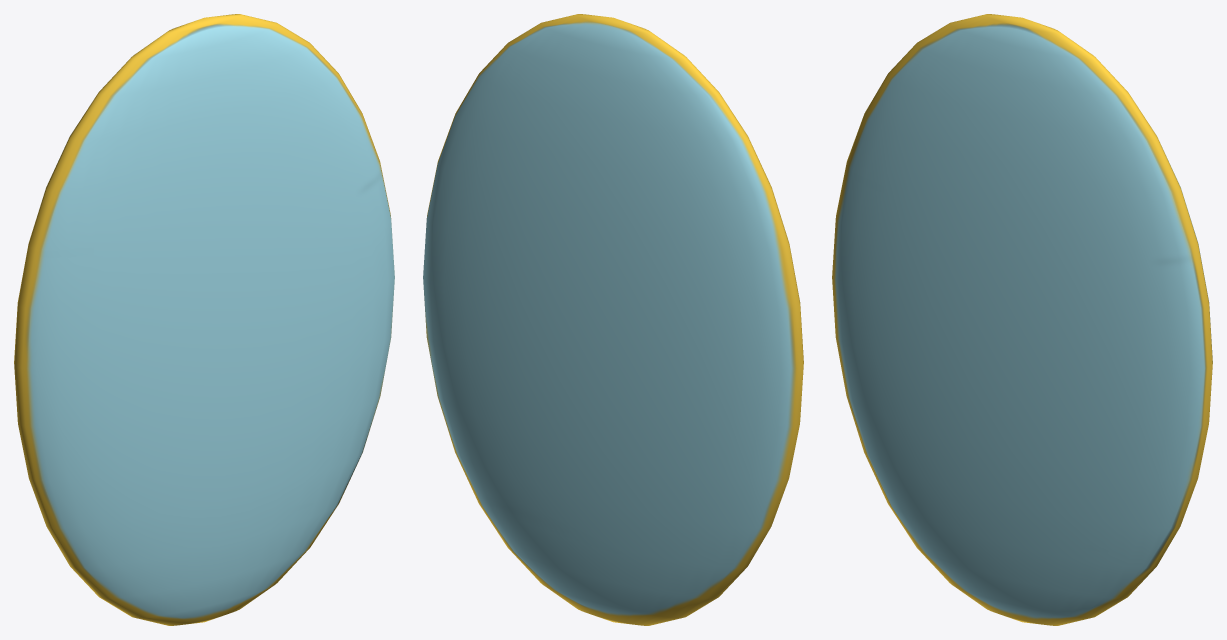
Rendered from mirror.obj.
The picture shows the model from 3 angles, left to right: view 1: azimuth 30°, elevation 25°; view 2: azimuth 150°, elevation 25°; view 3: azimuth 330°, elevation 25°; orthographic projection.
Visible parts, largest first — view 1: 球; view 2: 球; view 3: 球.
Part boxes in pixels (x1,y1,x2,y2): 球: (14, 14, 394, 625); 球: (423, 14, 803, 625); 球: (832, 14, 1212, 625).
Size of the model in its own units: 1.32 by 2 by 0.2469.
1 material, 1 textured.
